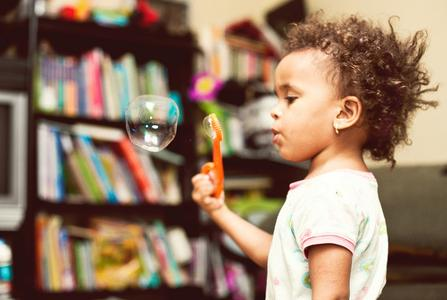person: (192, 18, 428, 300)
